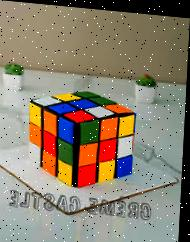cube: (26, 85, 139, 190)
